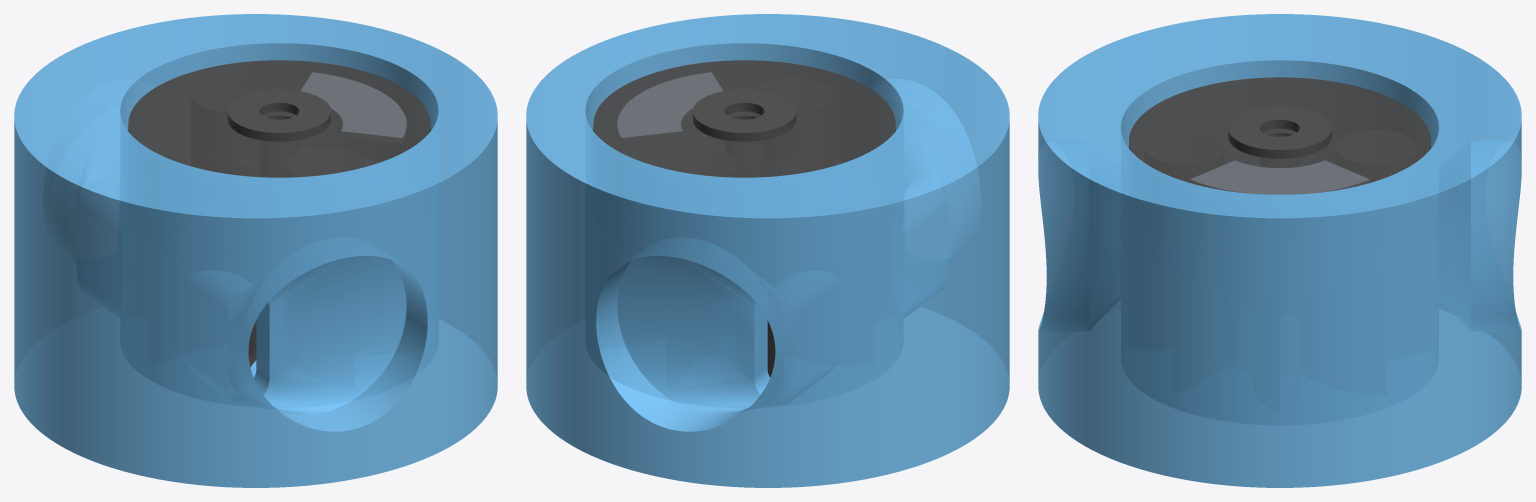
Rendered from flowmeter-v2.gltf.
3 views of the same model, side by side, from view 1: azimuth 30°, elevation 25°; view 2: azimuth 150°, elevation 25°; view 3: azimuth 270°, elevation 25° (orthographic).
Visible parts, largest first — view 1: Housing002, Propeller-dualcolour005, Distanzring, TurnIndicator; view 2: Housing002, Propeller-dualcolour005, Distanzring, TurnIndicator; view 3: Housing002, Propeller-dualcolour005, Distanzring, TurnIndicator.
Part boxes in pixels (x1=…): Housing002: x1=14, y1=14, x2=497, y2=487; Propeller-dualcolour005: x1=128, y1=60, x2=430, y2=367; Distanzring: x1=227, y1=89, x2=330, y2=141; TurnIndicator: x1=300, y1=72, x2=406, y2=142; Housing002: x1=526, y1=14, x2=1009, y2=487; Propeller-dualcolour005: x1=593, y1=60, x2=895, y2=376; Distanzring: x1=693, y1=89, x2=796, y2=141; TurnIndicator: x1=617, y1=72, x2=723, y2=142; Housing002: x1=1038, y1=14, x2=1521, y2=487; Propeller-dualcolour005: x1=1129, y1=77, x2=1430, y2=193; Distanzring: x1=1228, y1=106, x2=1331, y2=158; TurnIndicator: x1=1190, y1=160, x2=1369, y2=194.
Size of the model in its own units: 0.0304 by 0.0187 by 0.0304.
